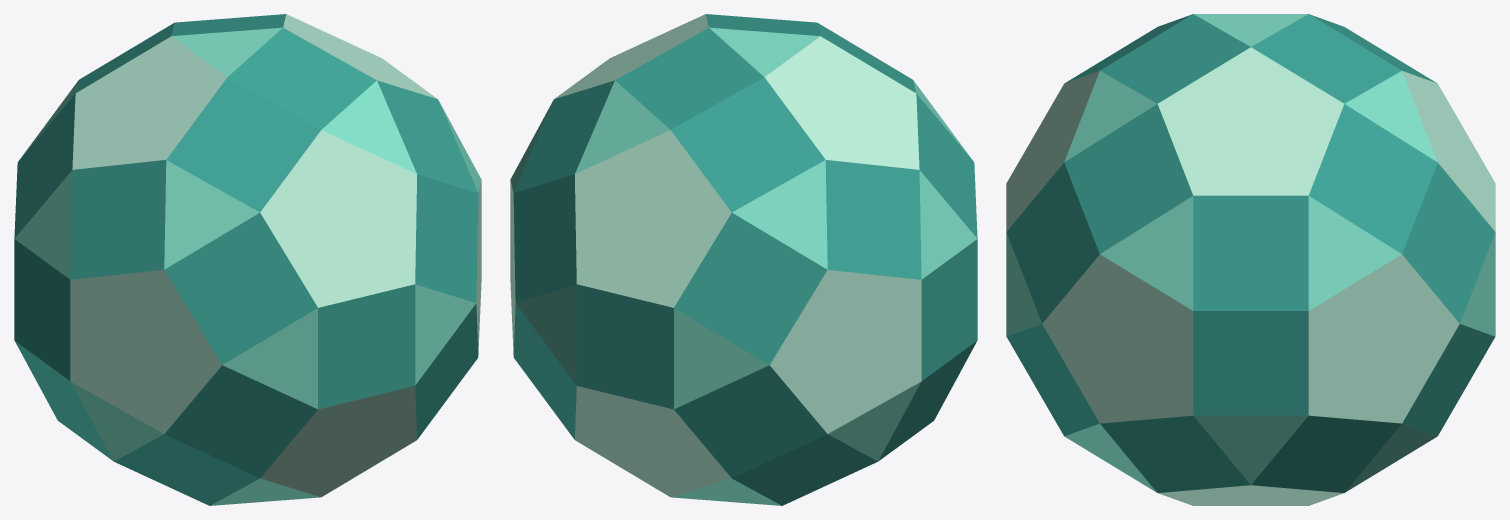
File: J76.RombicosidodecaedroDisminuido.gltf
The picture shows the model from 3 angles, left to right: view 1: azimuth 30°, elevation 25°; view 2: azimuth 150°, elevation 25°; view 3: azimuth 270°, elevation 25°; orthographic projection. The views are drawn at different scales.
Parts seen in each view (by area): view 1: J76.RombicosidodecaedroDisminuido; view 2: J76.RombicosidodecaedroDisminuido; view 3: J76.RombicosidodecaedroDisminuido.
Boxes of the visible parts, bbox=[...] form: J76.RombicosidodecaedroDisminuido: bbox=[14, 14, 481, 505]; J76.RombicosidodecaedroDisminuido: bbox=[510, 14, 977, 505]; J76.RombicosidodecaedroDisminuido: bbox=[1006, 14, 1495, 505].
Bounding box in the file's own units: 18.97 × 19.74 × 18.97.
